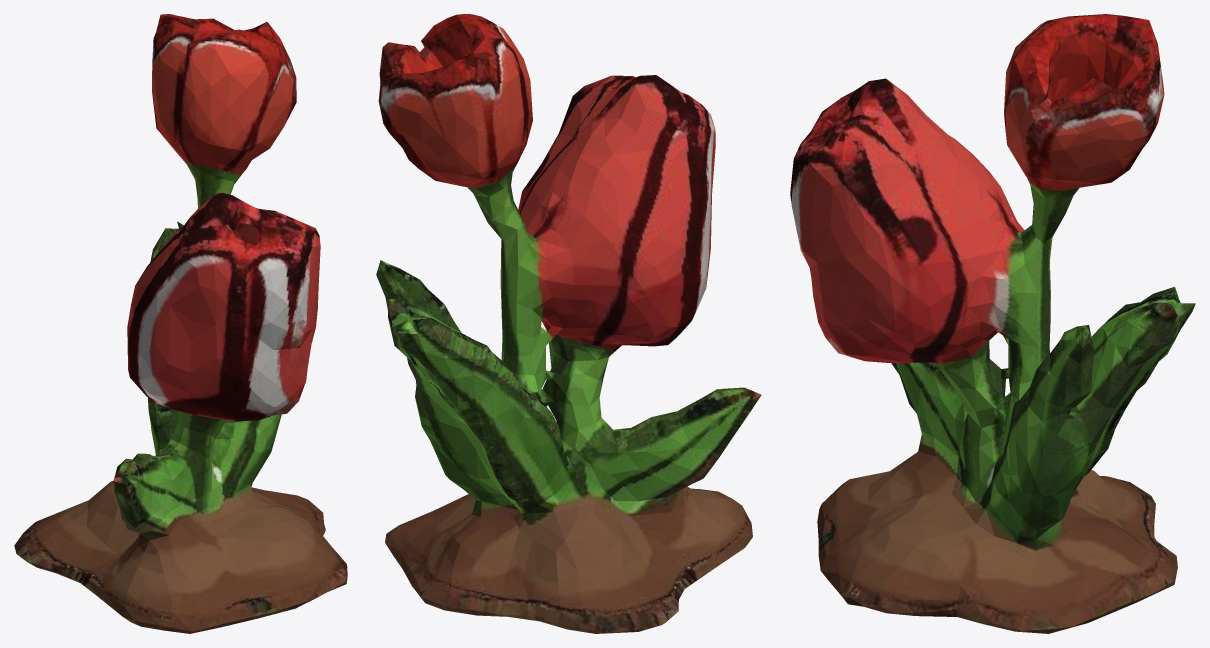
Rendered from lale.glb.
3 views of the same model, side by side, from view 1: azimuth 30°, elevation 25°; view 2: azimuth 150°, elevation 25°; view 3: azimuth 270°, elevation 25° (orthographic). The views are drawn at different scales.
Visible parts, largest first — view 1: geometry_0; view 2: geometry_0; view 3: geometry_0.
Boxes of the visible parts, x1=… form: geometry_0: x1=14, y1=14, x2=347, y2=633; geometry_0: x1=376, y1=14, x2=761, y2=633; geometry_0: x1=790, y1=14, x2=1195, y2=633.
Bounding box in the file's own units: 0.5827 × 1.02 × 0.6573.
1 material, 1 textured.
